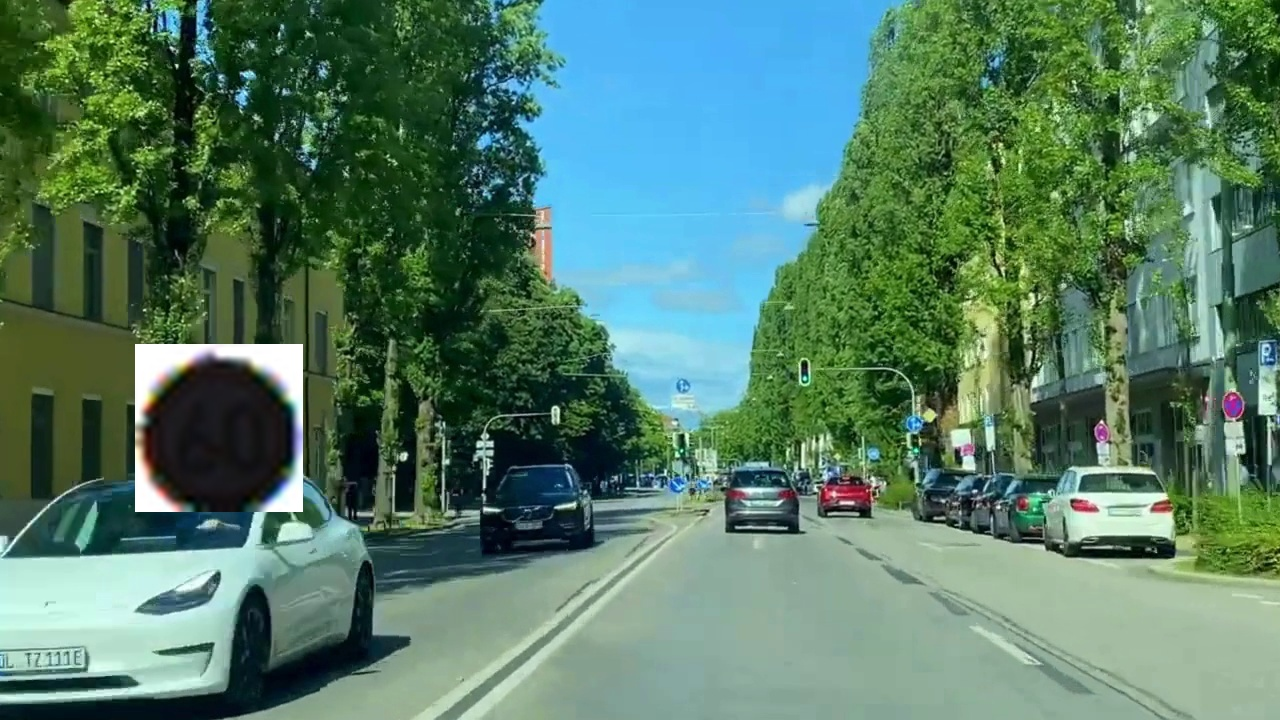Speed 60: (135, 344, 303, 512)
